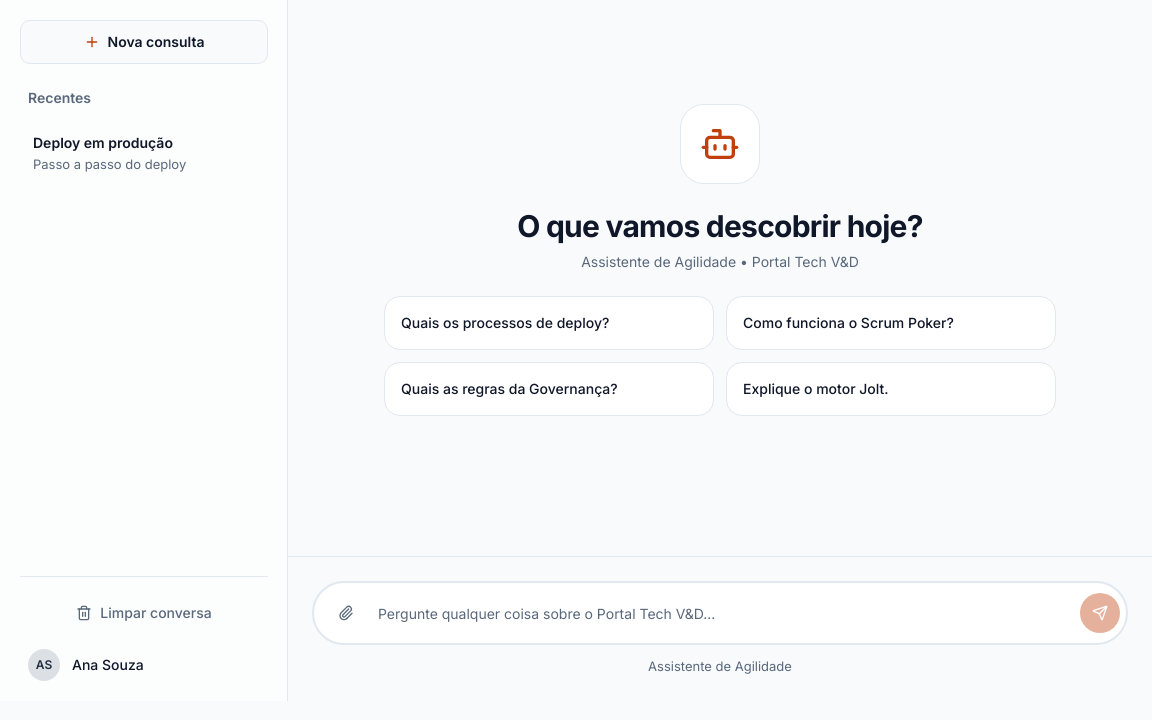
Assistente virtual › mostra a conversa vazia com sugestões e a caixa de pergunta acessível
Expected: the heading "O que vamos descobrir hoje?" is shown, [517, 208, 923, 244]
Expected: the field named "Sua pergunta" is shown, [366, 589, 1080, 637]
Click the button "Como funciona o Scrum Poker?".
click(891, 323)  # box [726, 296, 1056, 350]
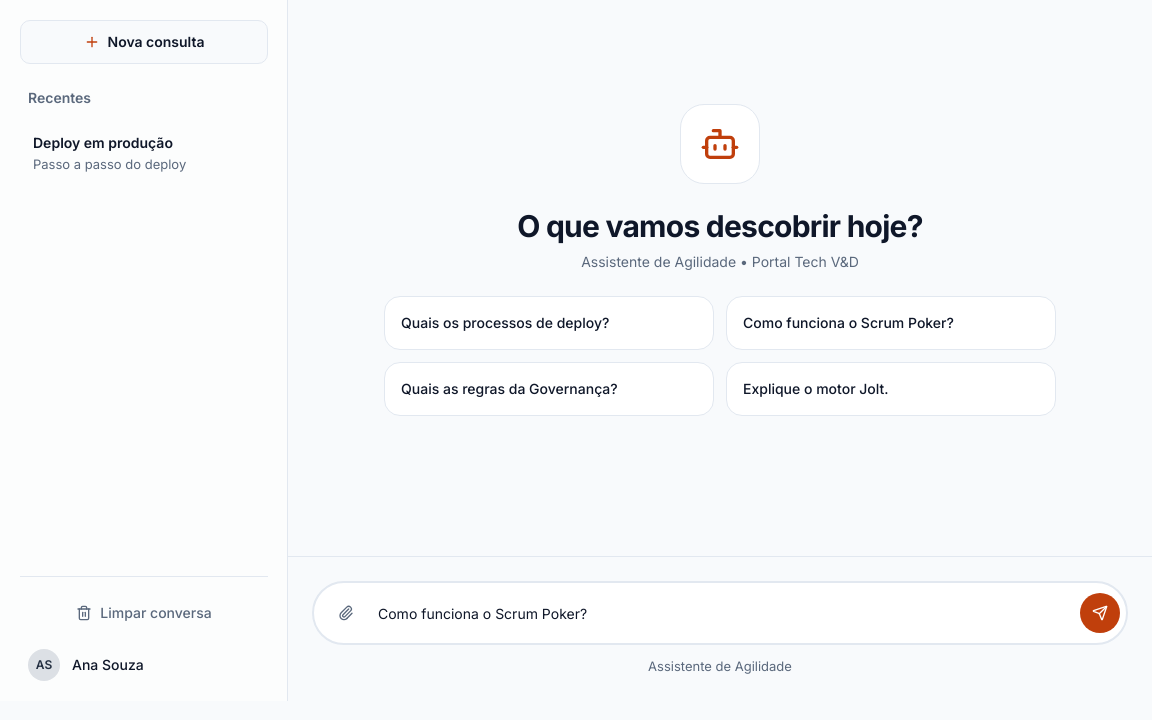
Expected: the field named "Sua pergunta" holds "Como funciona o Scrum Poker?", [366, 589, 1080, 637]
Expected: the button named "Enviar pergunta" is enabled, [1080, 593, 1120, 633]
